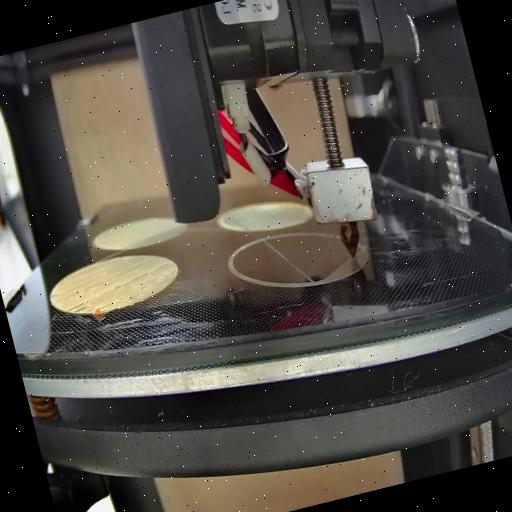under_extrusion: (112, 265, 168, 291), (64, 296, 98, 322), (48, 290, 63, 301)
